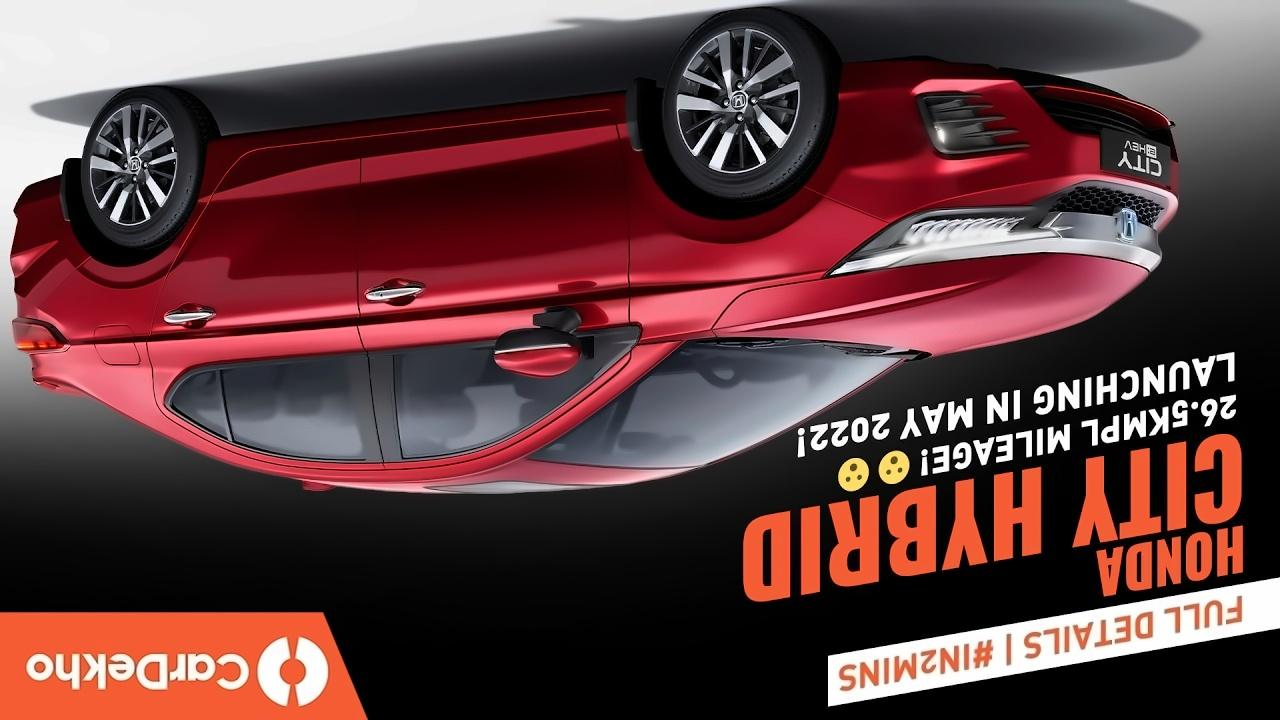Car hood: (710, 250, 1150, 363)
Fender - -F-L-: (606, 82, 890, 342)
Fender - -R-L-: (28, 189, 241, 398)
Front bumper: (795, 51, 1188, 230)
Headlight - -L-: (822, 200, 1070, 278)
Passenger-s door - -F-L-: (352, 73, 650, 499)
Passenger-s door - -R-L-: (141, 103, 398, 496)
Rear bumper: (13, 149, 96, 314)
Rear light - -L-: (7, 316, 65, 355)
Side bumper - -L-: (204, 80, 634, 216)
Side mirror - -L-: (492, 316, 600, 387)
